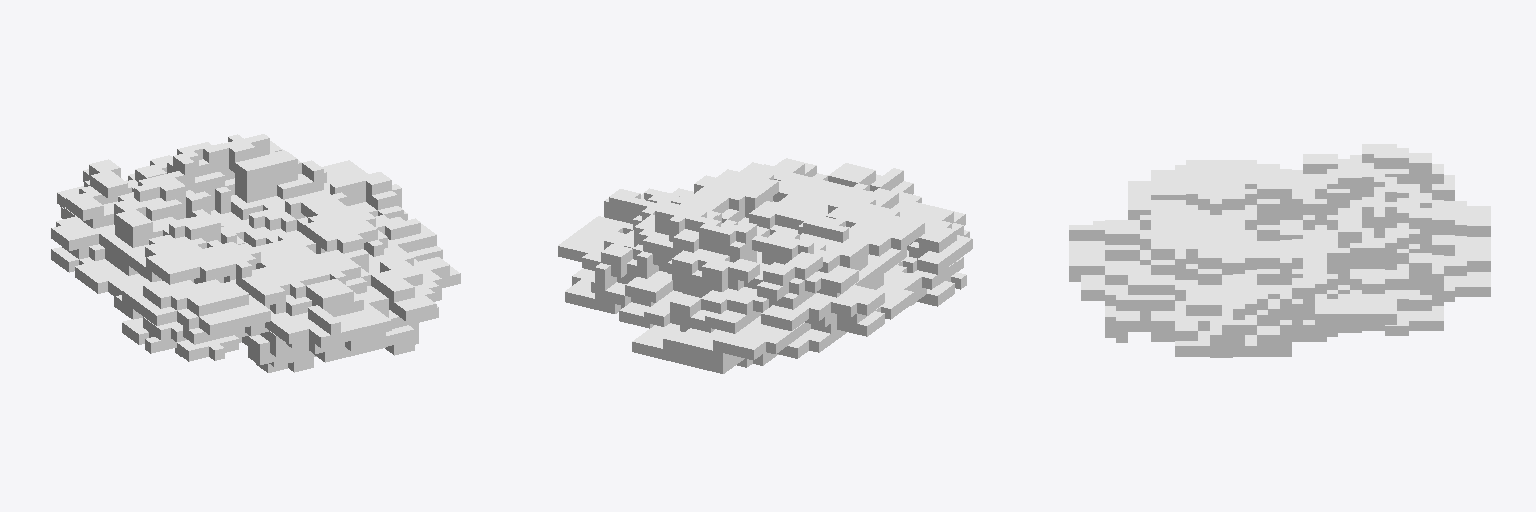
Rendered from start_end-35.obj.
3 renders of one model, left to right at view 1: azimuth 30°, elevation 25°; view 2: azimuth 150°, elevation 25°; view 3: azimuth 270°, elevation 25°, orthographic.
Visible parts, largest first — view 1: object 1; view 2: object 1; view 3: object 1.
Boxes of the visible parts, box(x1,y1,x2,y2) form: object 1: box(51, 134, 460, 372); object 1: box(558, 158, 972, 373); object 1: box(1069, 144, 1490, 357).
Size of the model in its own units: 3 by 1.3 by 3.6.